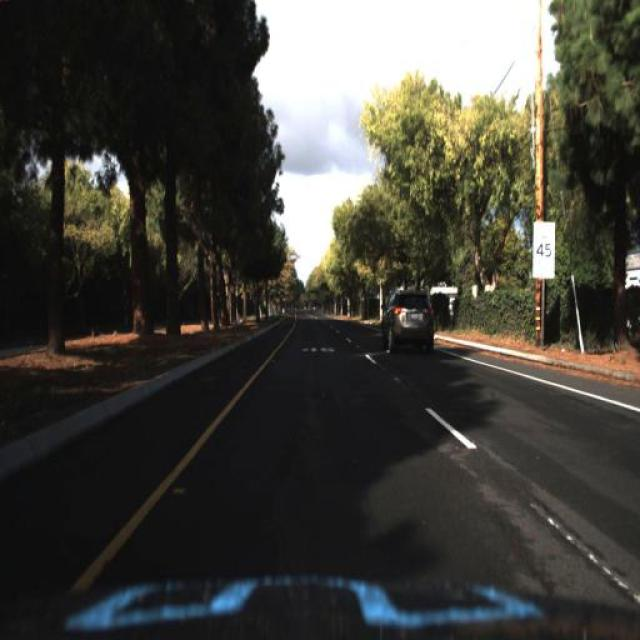car: (376, 290, 442, 361)
